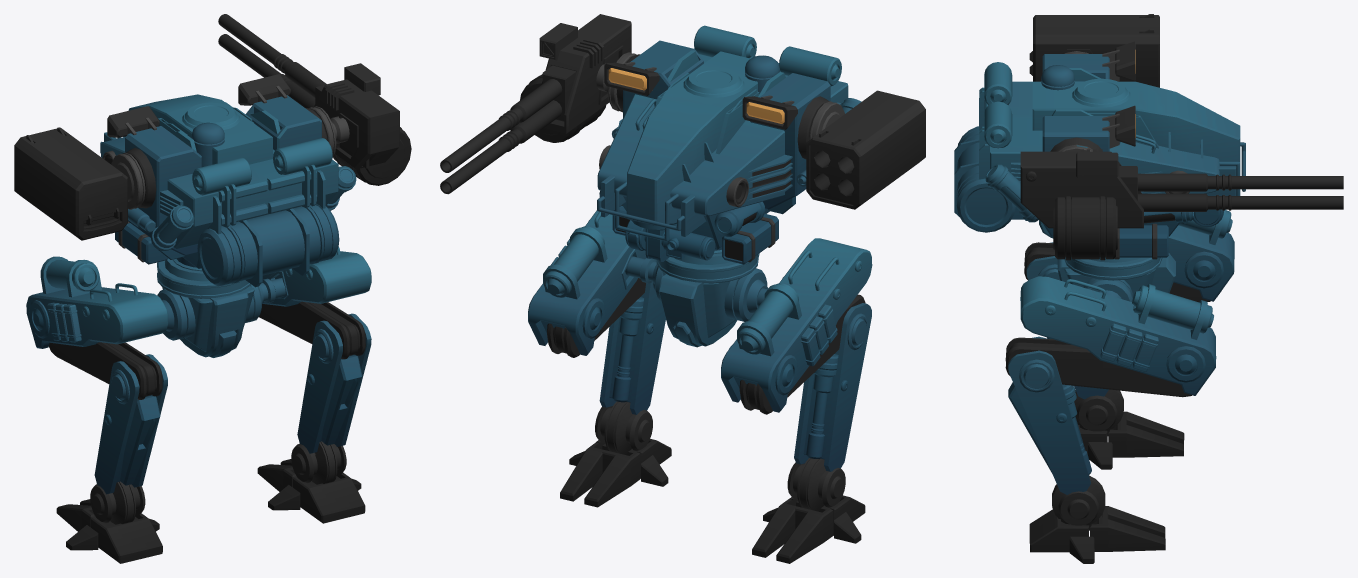
File: mech.glb
3 views of the same model, side by side, from view 1: azimuth 30°, elevation 25°; view 2: azimuth 150°, elevation 25°; view 3: azimuth 270°, elevation 25° (orthographic). The views are drawn at different scales.
Visible parts, largest first — view 1: Battle_mech_03_torso_poly, Battle_mech_03_R_weapon_poly, Battle_mech_03_L_weapon_poly, Battle_mech_03_L_hips_poly, Mech, Battle_mech_03_R_leg_poly, Battle_mech_03_L_leg_poly, Battle_mech_03_R_foot_poly, Battle_mech_03_L_foot_poly, Battle_mech_03_R_hips_poly, Battle_mech_03_L_knee_poly, Battle_mech_03_R_knee_poly (+1 smaller); view 2: Battle_mech_03_torso_poly, Battle_mech_03_L_hips_poly, Battle_mech_03_R_weapon_poly, Battle_mech_03_L_weapon_poly, Battle_mech_03_R_hips_poly, Mech, Battle_mech_03_L_leg_poly, Battle_mech_03_L_foot_poly, Battle_mech_03_R_foot_poly, Battle_mech_03_R_leg_poly, Battle_mech_03_L_knee_poly, Battle_mech_03_R_knee_poly (+1 smaller); view 3: Battle_mech_03_torso_poly, Battle_mech_03_R_weapon_poly, Battle_mech_03_R_hips_poly, Battle_mech_03_R_leg_poly, Battle_mech_03_R_foot_poly, Battle_mech_03_L_weapon_poly, Battle_mech_03_L_foot_poly, Battle_mech_03_L_hips_poly, Battle_mech_03_R_knee_poly, Mech, Battle_mech_03_L_leg_poly, Battle_mech_03_L_knee_poly (+1 smaller).
Boxes of the visible parts, x1,y1,x2,y2 form: Battle_mech_03_torso_poly: [100, 74, 356, 287]; Battle_mech_03_R_weapon_poly: [218, 14, 411, 185]; Battle_mech_03_L_weapon_poly: [14, 127, 127, 240]; Battle_mech_03_L_hips_poly: [26, 256, 168, 348]; Mech: [157, 258, 285, 357]; Battle_mech_03_R_leg_poly: [297, 313, 371, 453]; Battle_mech_03_L_leg_poly: [94, 354, 167, 494]; Battle_mech_03_R_foot_poly: [257, 441, 365, 523]; Battle_mech_03_L_foot_poly: [56, 481, 162, 563]; Battle_mech_03_R_hips_poly: [262, 247, 371, 306]; Battle_mech_03_L_knee_poly: [49, 342, 162, 399]; Battle_mech_03_R_knee_poly: [259, 301, 365, 359]; Battle_mech_03_torso_poly: [596, 25, 861, 264]; Battle_mech_03_L_hips_poly: [721, 238, 872, 412]; Battle_mech_03_R_weapon_poly: [440, 14, 631, 194]; Battle_mech_03_L_weapon_poly: [806, 90, 925, 209]; Battle_mech_03_R_hips_poly: [528, 210, 646, 355]; Mech: [625, 250, 768, 347]; Battle_mech_03_L_leg_poly: [794, 303, 871, 471]; Battle_mech_03_L_foot_poly: [752, 458, 865, 563]; Battle_mech_03_R_foot_poly: [560, 401, 671, 507]; Battle_mech_03_R_leg_poly: [599, 259, 665, 414]; Battle_mech_03_L_knee_poly: [739, 294, 865, 414]; Battle_mech_03_R_knee_poly: [547, 278, 645, 357]; Battle_mech_03_torso_poly: [954, 41, 1245, 259]; Battle_mech_03_R_weapon_poly: [1020, 149, 1343, 260]; Battle_mech_03_R_hips_poly: [1020, 276, 1216, 395]; Battle_mech_03_R_leg_poly: [1008, 336, 1091, 494]; Battle_mech_03_R_foot_poly: [1029, 475, 1165, 563]; Battle_mech_03_L_weapon_poly: [1029, 14, 1159, 87]; Battle_mech_03_L_foot_poly: [1074, 389, 1184, 469]; Battle_mech_03_L_hips_poly: [1039, 209, 1234, 301]; Battle_mech_03_R_knee_poly: [1005, 337, 1191, 397]; Mech: [1057, 253, 1175, 301]; Battle_mech_03_L_leg_poly: [1026, 242, 1108, 399]; Battle_mech_03_L_knee_poly: [1024, 242, 1221, 302].
Size of what is drawn, in the model's own units: 5.84 by 6.6 by 5.63.
Materials: 1 (1 with a texture image).
